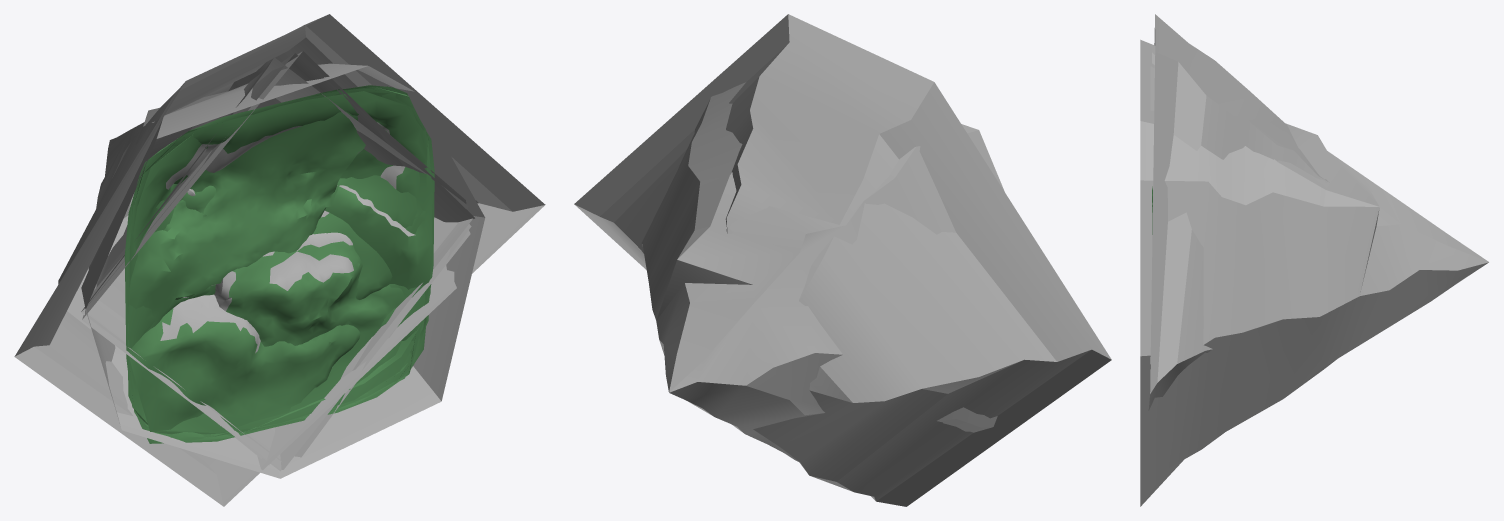
The model's file is Distant Mountains.fbx.
The picture shows the model from 3 angles, left to right: view 1: azimuth 30°, elevation 25°; view 2: azimuth 150°, elevation 25°; view 3: azimuth 270°, elevation 25°; orthographic projection. The views are drawn at different scales.
Parts seen in each view (by area): view 1: Wintery Mountain 2, Distant Cliffs 3, Distant Cliffs 2, Wintery Mountain 3, Distant Cliffs 7, Wintery Mountain 1, Distant Cliffs 5, Distant Cliffs 6, Distant Cliffs 1, Wintery Mountain 5, Distant Cliffs 4, Wintery Mountain 4; view 2: Wintery Mountain 2, Wintery Mountain 3; view 3: Wintery Mountain 3, Wintery Mountain 2.
Part boxes in pixels (x1,y1,x2,y2): Wintery Mountain 2: (14,14,545,506); Distant Cliffs 3: (127,90,434,441); Distant Cliffs 2: (128,87,432,434); Wintery Mountain 3: (81,63,485,478); Distant Cliffs 7: (124,85,431,432); Wintery Mountain 1: (82,51,474,471); Distant Cliffs 5: (125,91,426,437); Distant Cliffs 6: (127,89,432,441); Distant Cliffs 1: (126,87,432,443); Wintery Mountain 5: (81,53,472,464); Distant Cliffs 4: (126,86,428,437); Wintery Mountain 4: (81,57,471,462); Wintery Mountain 2: (574,14,1111,506); Wintery Mountain 3: (641,82,1004,461); Wintery Mountain 3: (1140,39,1488,506); Wintery Mountain 2: (1148,14,1329,410).
Size of the model in its own units: 333 by 277 by 191.
